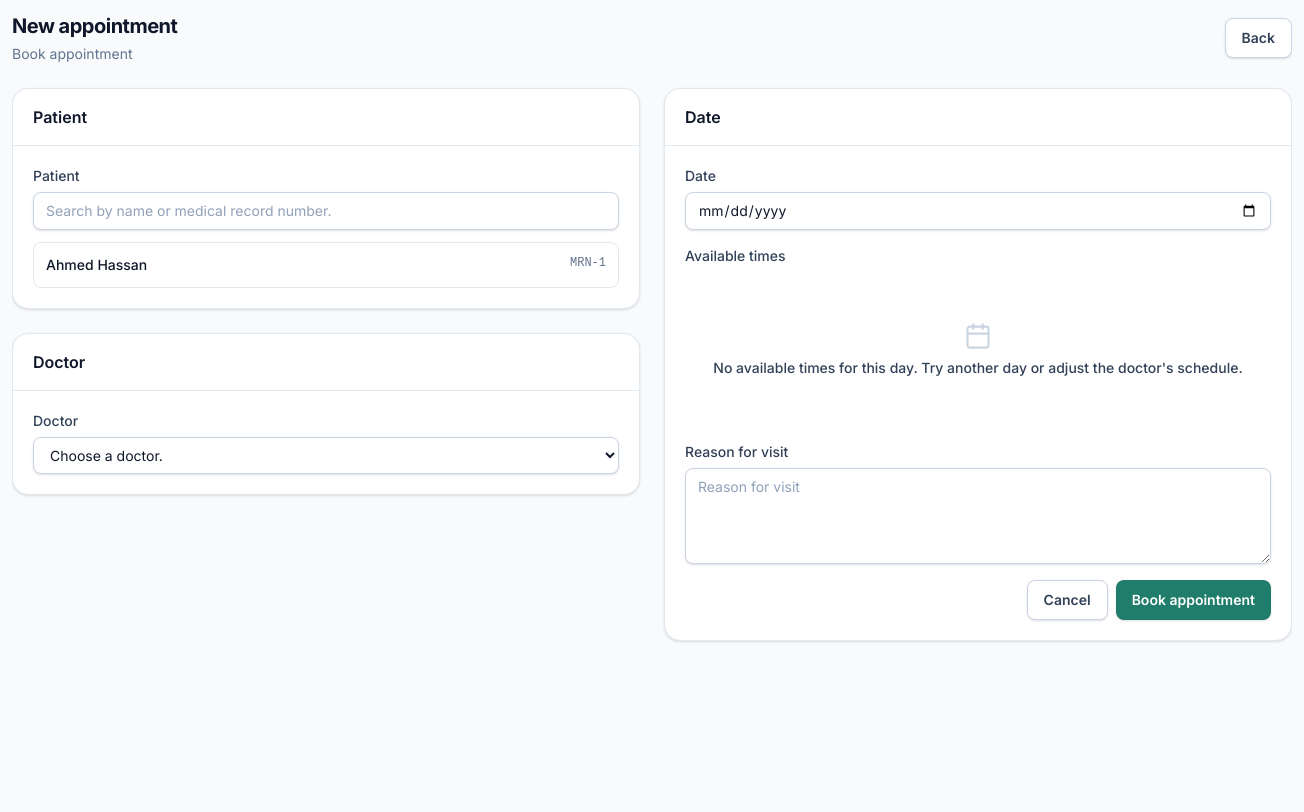
Test: AppointmentBookingPage › books an appointment for the selected patient, doctor and slot
The width and height of the screenshot is (1304, 812).
Click the text "Ahmed Hassan": (97, 265) [46, 255, 147, 275]
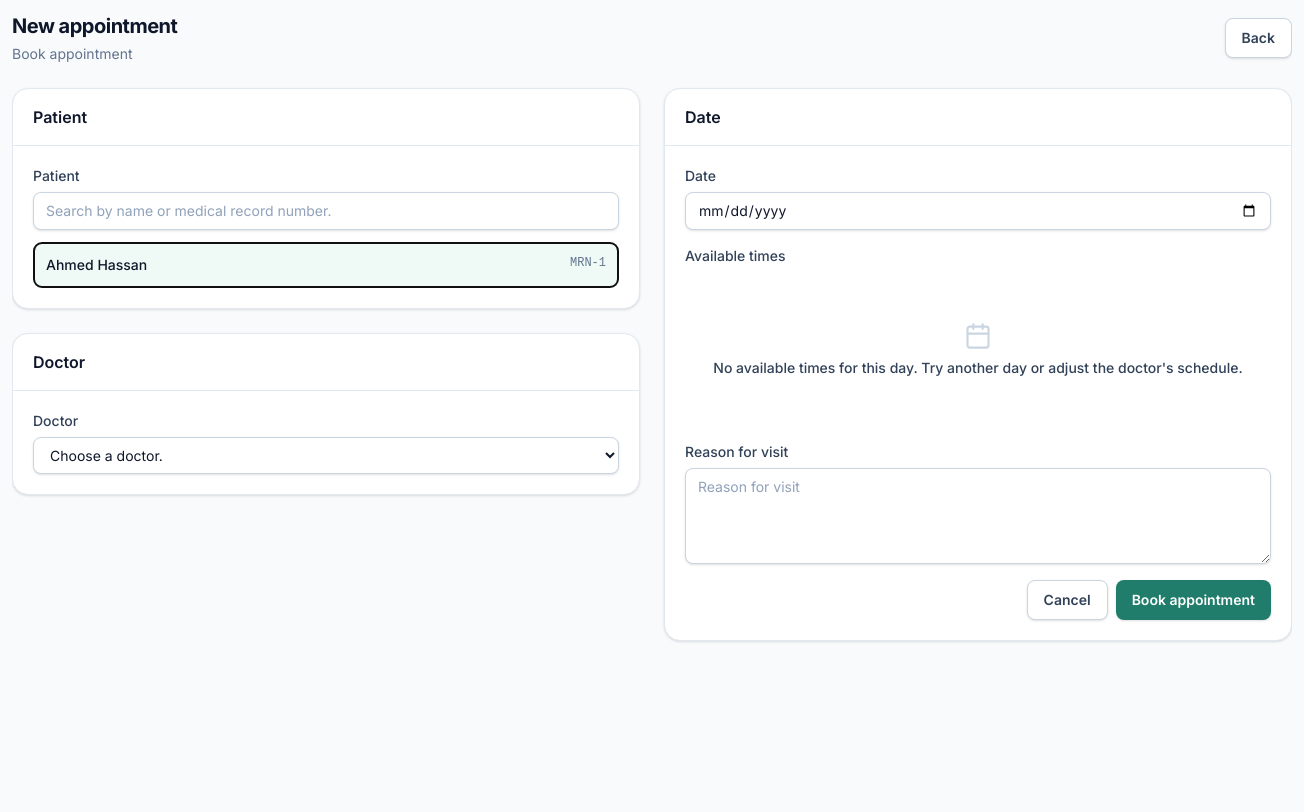
Select "Dr. Sara" in the dropdown labelled "Doctor": (326, 456) [33, 437, 619, 474]
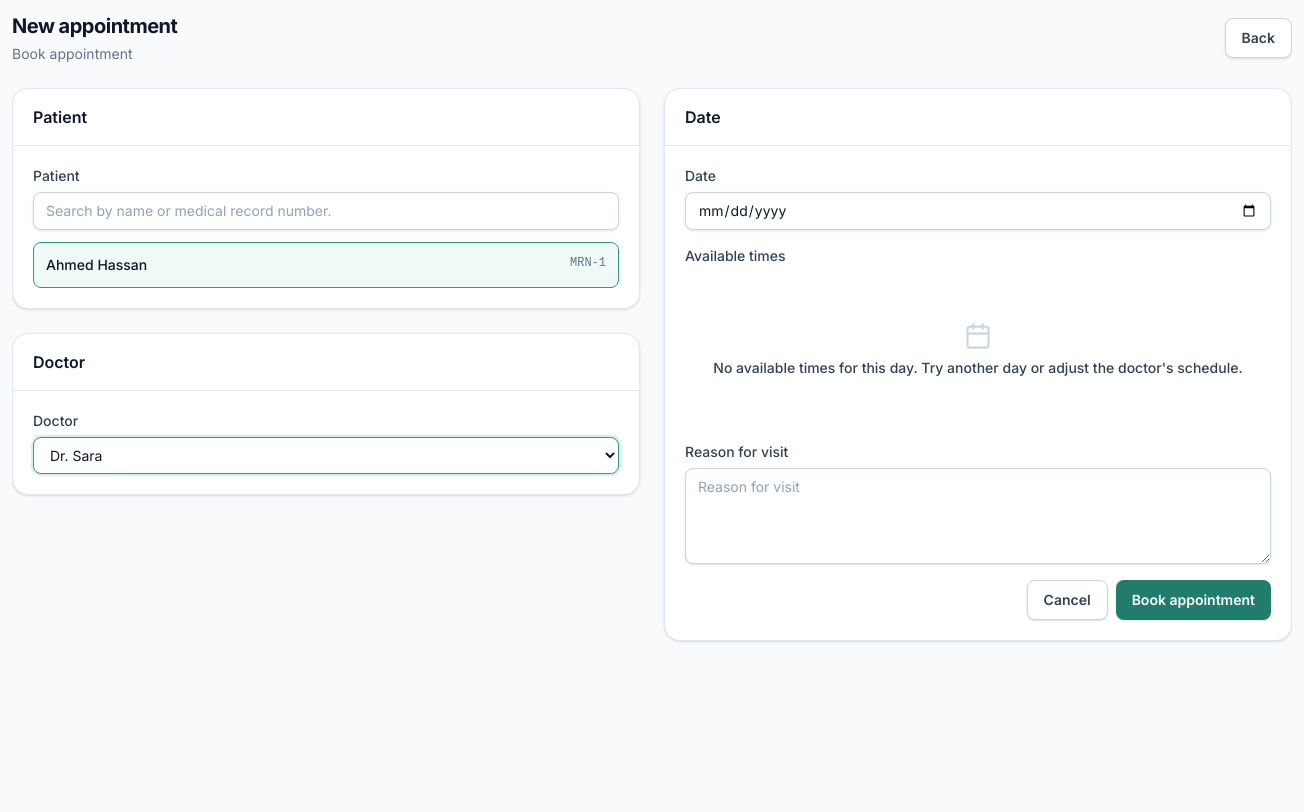
In the date field labelled "Date": (978, 211) [685, 192, 1271, 230], type "2026-10-15"
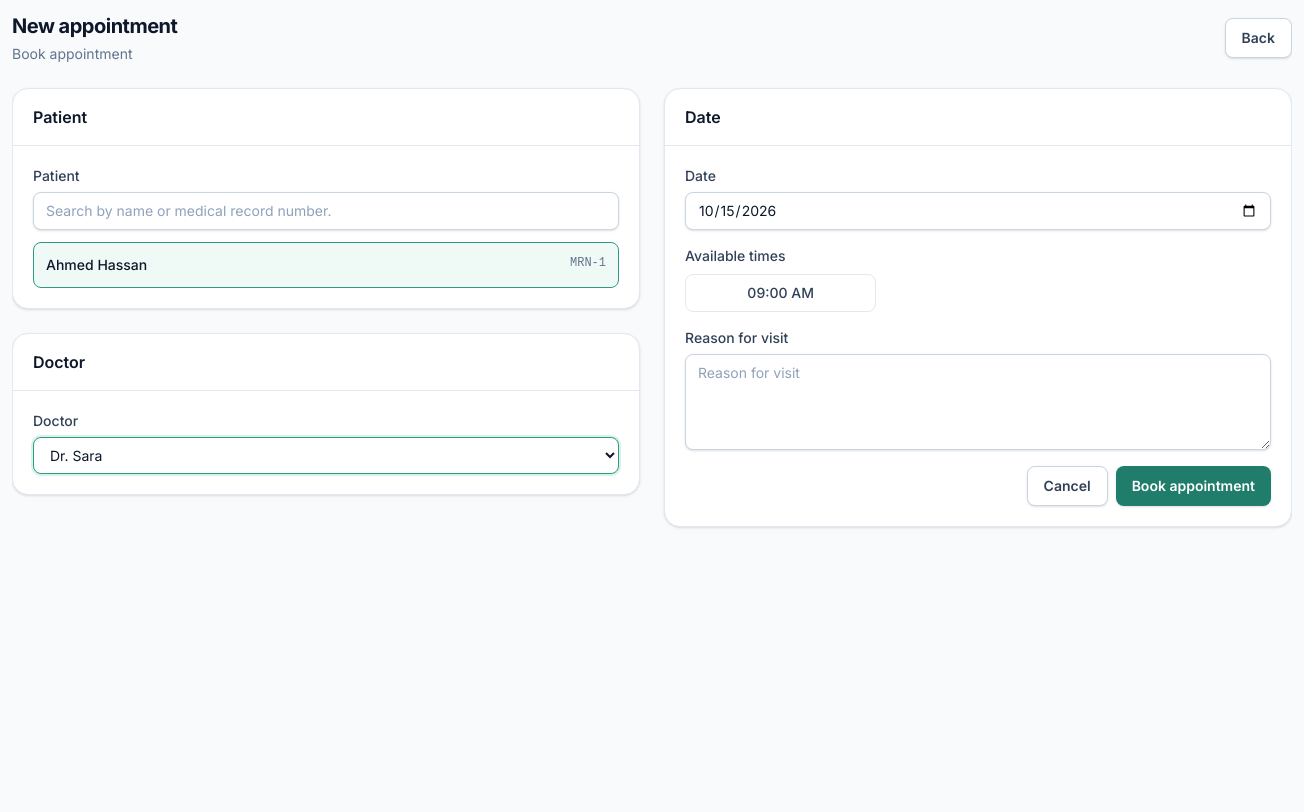
Click the button "09:00 AM": (781, 293) [685, 274, 876, 312]
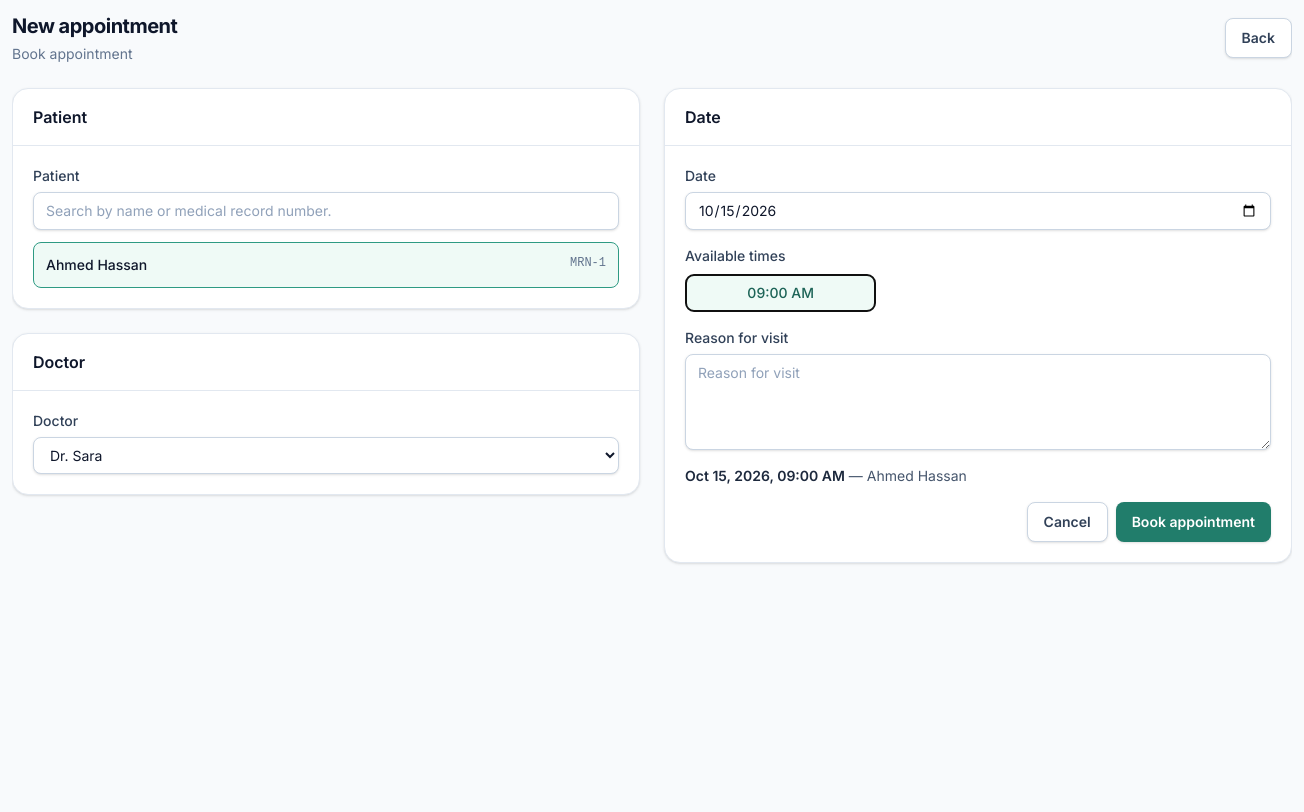
Click the button "Book appointment": (1193, 522) [1116, 502, 1271, 542]
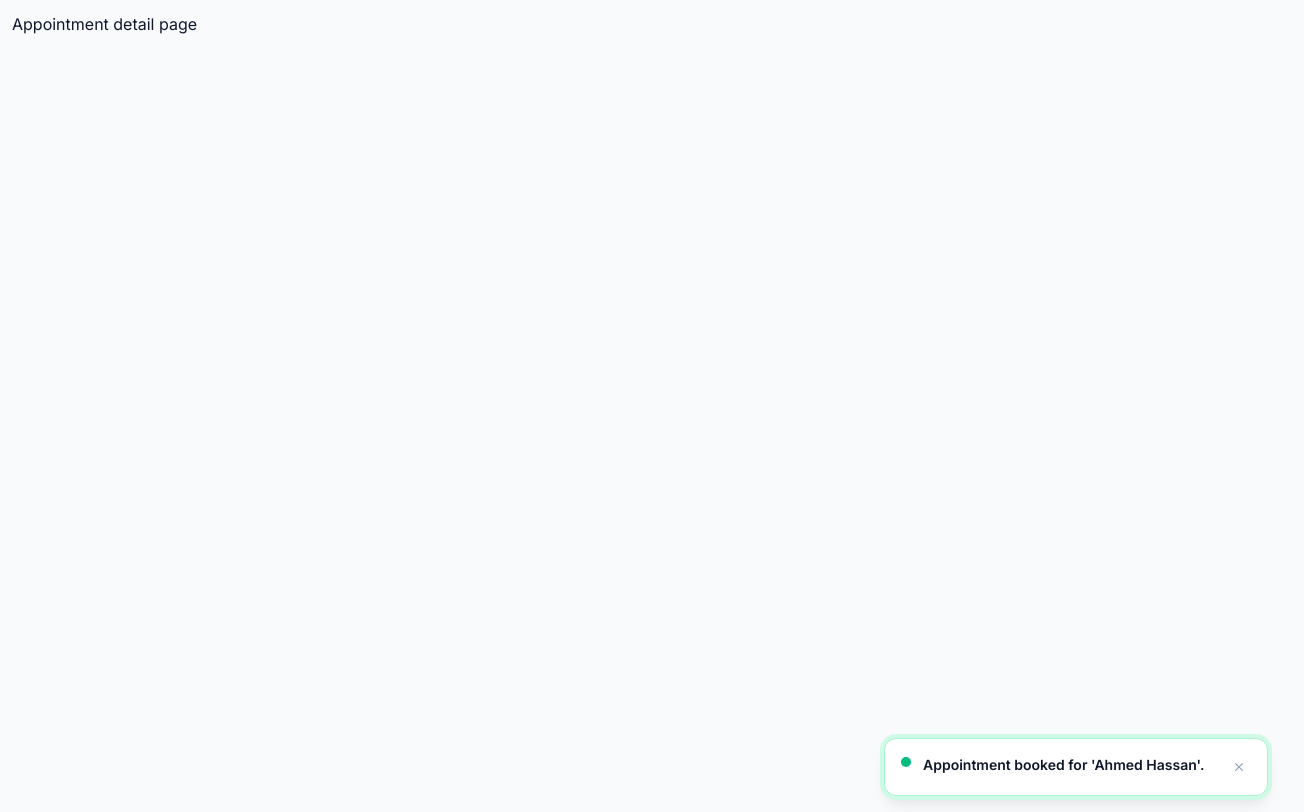
expect the text "Appointment detail page" is shown: met, box [12, 14, 197, 34]
